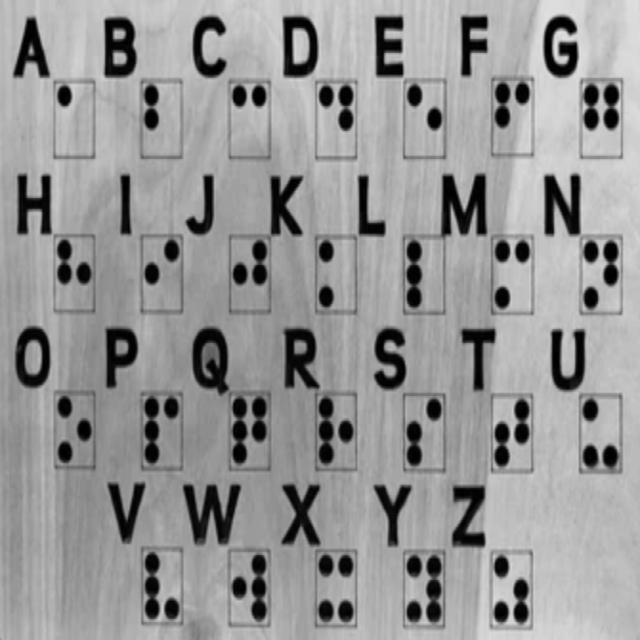braiile: (490, 392, 533, 472), (580, 394, 623, 474), (140, 78, 182, 158), (229, 79, 271, 159), (491, 552, 534, 630), (230, 391, 271, 471), (314, 234, 356, 312), (143, 546, 185, 624), (315, 548, 357, 626), (404, 551, 446, 629), (315, 80, 356, 159), (581, 78, 621, 158), (404, 235, 444, 315), (492, 236, 534, 312), (142, 392, 184, 468), (315, 396, 357, 472), (404, 391, 444, 470), (55, 80, 95, 158), (404, 80, 444, 158), (54, 235, 94, 312), (230, 235, 270, 312), (582, 233, 622, 310), (494, 78, 534, 154), (142, 235, 182, 311), (55, 392, 95, 468), (230, 550, 270, 623)
